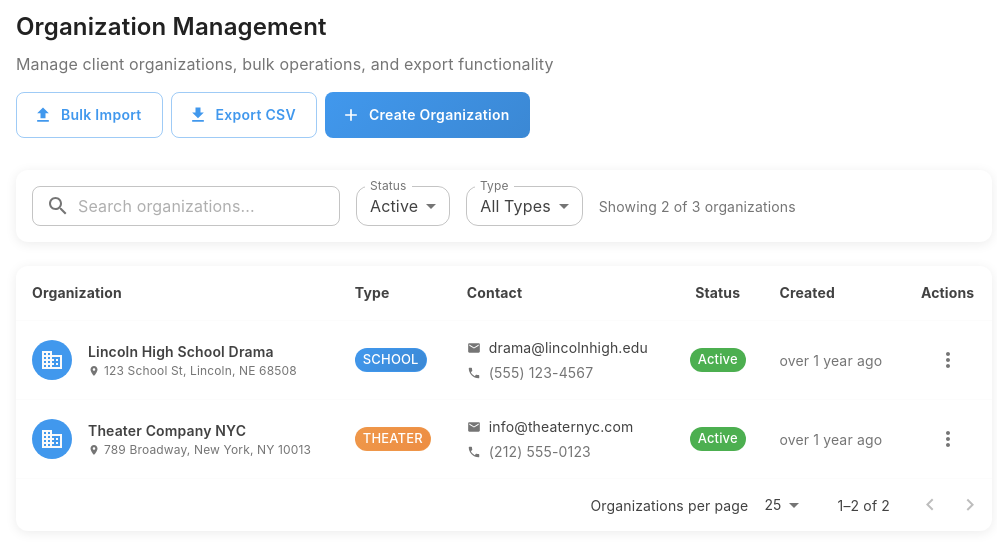
Scenario: OrganizationManagement › Search and Filtering › filters organizations by type
Expected: the heading "Lincoln High School Drama" is shown, x1=88 y1=341 x2=297 y2=363
// Click on type filter
Click the dropdown "All Types" at (515, 206), box x1=480 y1=196 x2=551 y2=216
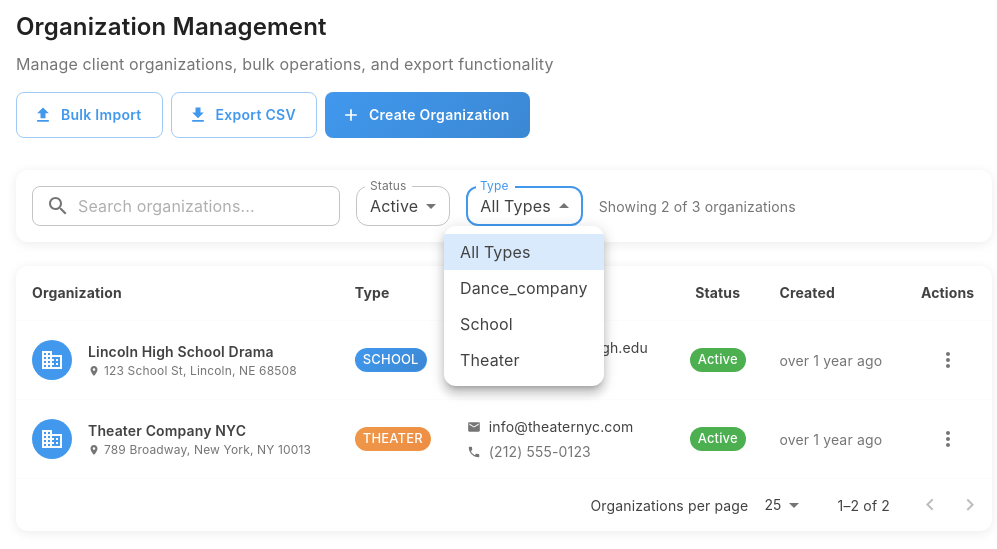
// Select theater type
Click the option "Theater" at (490, 360), box x1=460 y1=350 x2=520 y2=370
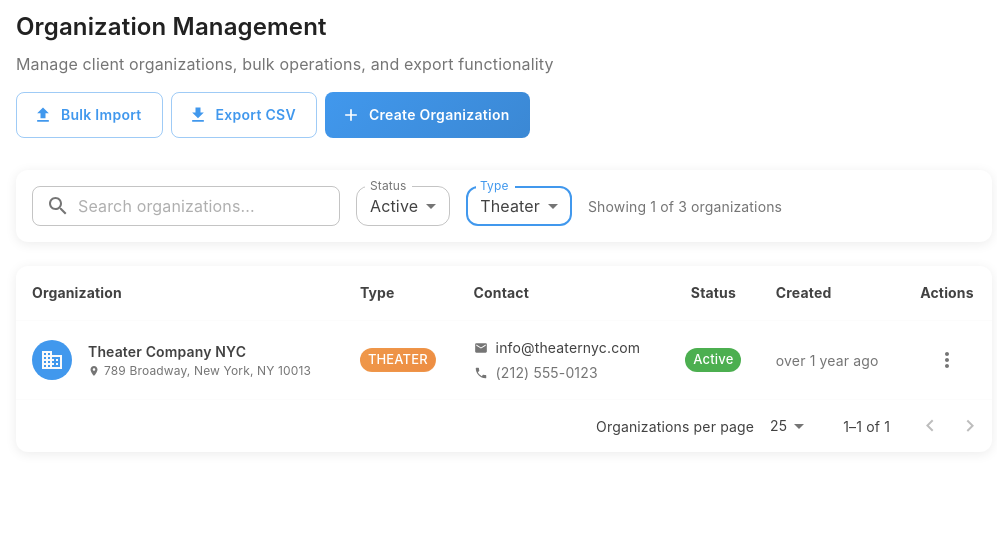
Expected: the heading "Theater Company NYC" is shown, x1=88 y1=343 x2=246 y2=360
Expected: the heading "Lincoln High School Drama" is gone
